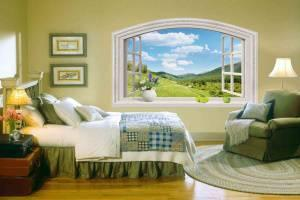window: (110, 19, 254, 106)
